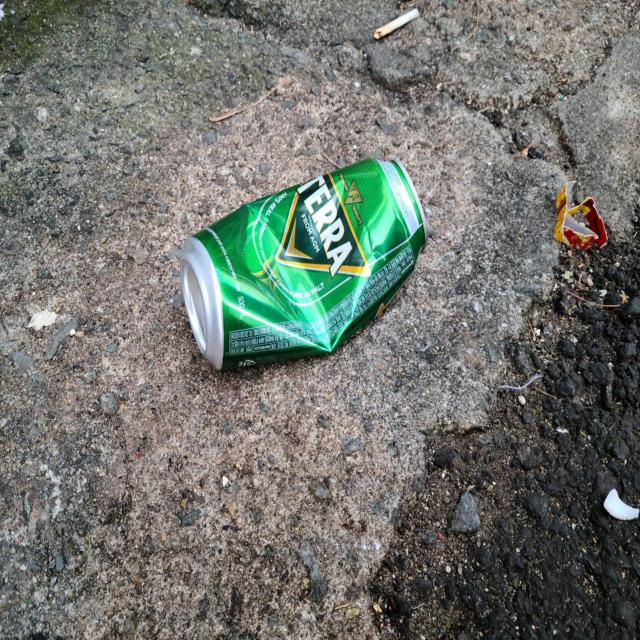can: (179, 159, 428, 369)
